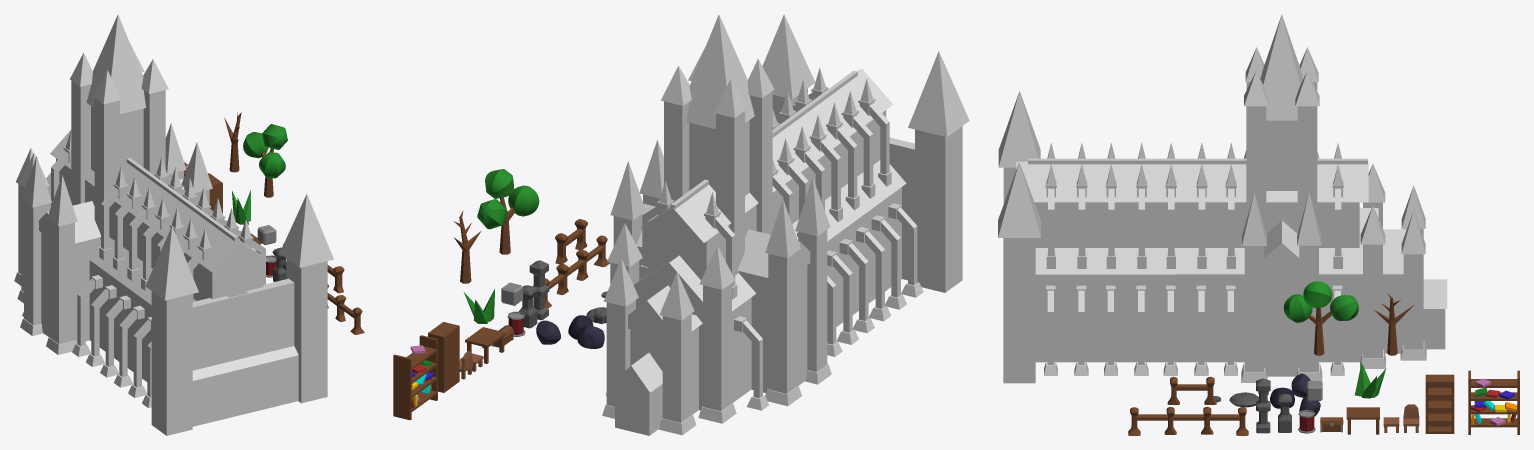
The picture shows the model from 3 angles, left to right: view 1: azimuth 30°, elevation 25°; view 2: azimuth 150°, elevation 25°; view 3: azimuth 270°, elevation 25°; orthographic projection. The views are drawn at different scales.
Visible parts, largest first — view 1: Cube.130, Cube.116, Cube.134, Cube.117, Cube.131, Cube.136, Cube.127, Cube.135, Cube.122, Cube.126, Cube.123, Cube.125 (+26 smaller); view 2: Cube.134, Cube.116, Cube.136, Cube.131, Cube.126, Cube.135, Cube.121, Cube.123, Cube.127, Cube.119, Cube.122, Cube.132 (+36 smaller); view 3: Cube.136, Cube.134, Cube.117, Cube.131, Cube.135, Cube.129, Cube.120, Cube.124, Cube.125, Cube.118, Cube.128, Cube.116 (+33 smaller).
Boxes of the visible parts, bbox=[...] form: Cube.130: bbox=[192, 278, 298, 426]; Cube.116: bbox=[145, 226, 198, 435]; Cube.134: bbox=[50, 130, 268, 300]; Cube.117: bbox=[279, 194, 333, 403]; Cube.131: bbox=[86, 14, 145, 171]; Cube.136: bbox=[48, 187, 247, 381]; Cube.127: bbox=[47, 175, 77, 344]; Cube.135: bbox=[39, 178, 184, 342]; Cube.122: bbox=[93, 70, 121, 239]; Cube.126: bbox=[21, 156, 51, 325]; Cube.123: bbox=[70, 53, 92, 205]; Cube.125: bbox=[141, 59, 168, 174]; Cube.134: bbox=[641, 69, 893, 280]; Cube.116: bbox=[908, 51, 969, 292]; Cube.136: bbox=[633, 160, 906, 410]; Cube.131: bbox=[686, 14, 754, 195]; Cube.126: bbox=[765, 199, 800, 393]; Cube.135: bbox=[636, 203, 810, 392]; Cube.121: bbox=[699, 246, 734, 411]; Cube.123: bbox=[714, 78, 746, 274]; Cube.127: bbox=[795, 177, 830, 371]; Cube.119: bbox=[659, 272, 694, 422]; Cube.122: bbox=[747, 59, 774, 234]; Cube.132: bbox=[612, 352, 662, 435]; Cube.136: bbox=[1035, 208, 1378, 362]; Cube.134: bbox=[1016, 161, 1368, 247]; Cube.117: bbox=[998, 162, 1040, 383]; Cube.131: bbox=[1260, 14, 1303, 190]; Cube.135: bbox=[1264, 220, 1299, 376]; Cube.129: bbox=[1242, 192, 1266, 371]; Cube.120: bbox=[1360, 206, 1385, 357]; Cube.124: bbox=[1295, 70, 1319, 232]; Cube.125: bbox=[1244, 71, 1268, 232]; Cube.118: bbox=[1401, 210, 1425, 349]; Cube.128: bbox=[1297, 192, 1321, 371]; Cube.116: bbox=[998, 91, 1040, 203].
Size of the model in its own units: 2302 by 2537 by 3607.
